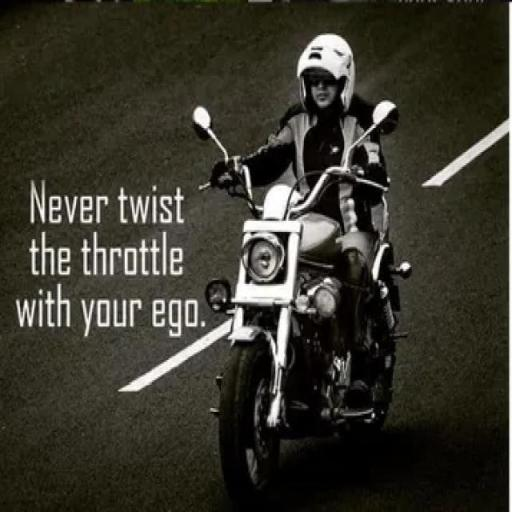Helmet: (297, 34, 355, 111)
Motor: (206, 102, 410, 502)
